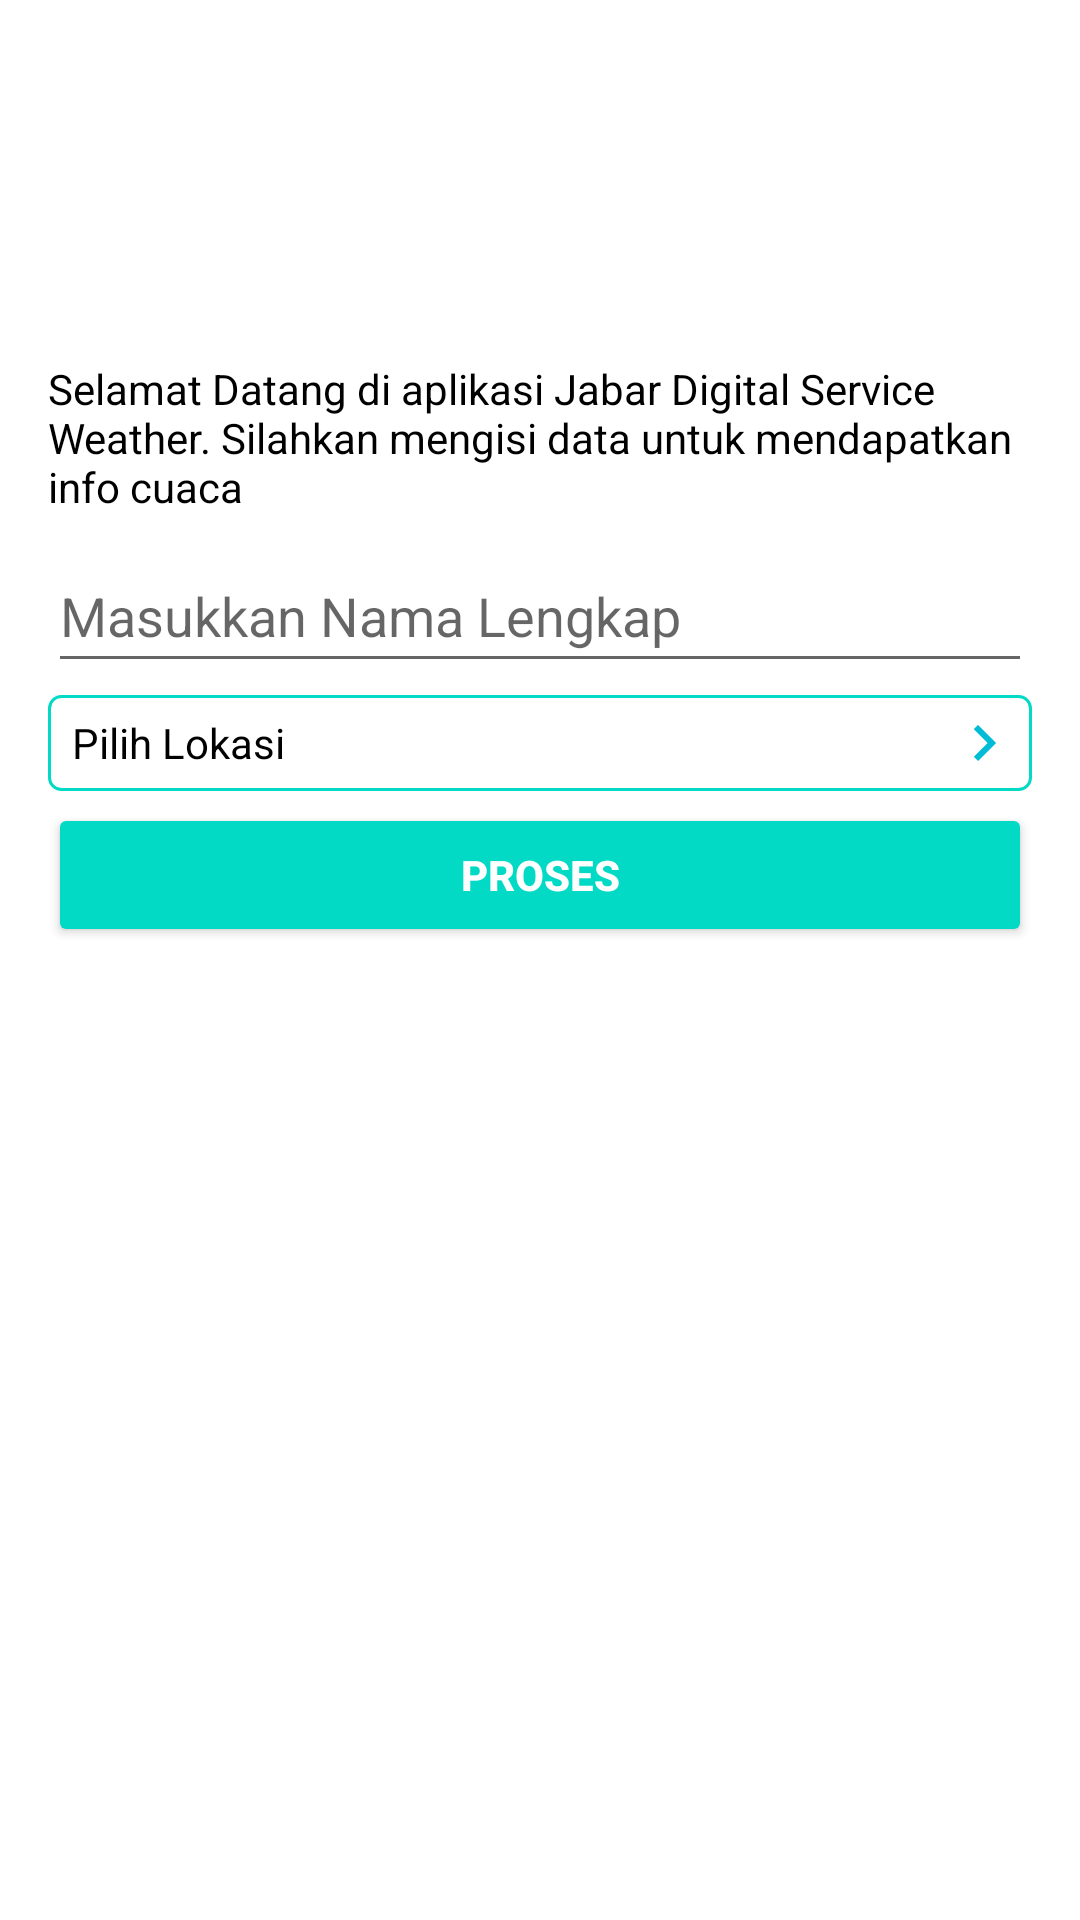

Where to tap for icons on this 1080px×1920px app screen, as point (x, y):
keyboard arrow right: point (985, 743)
